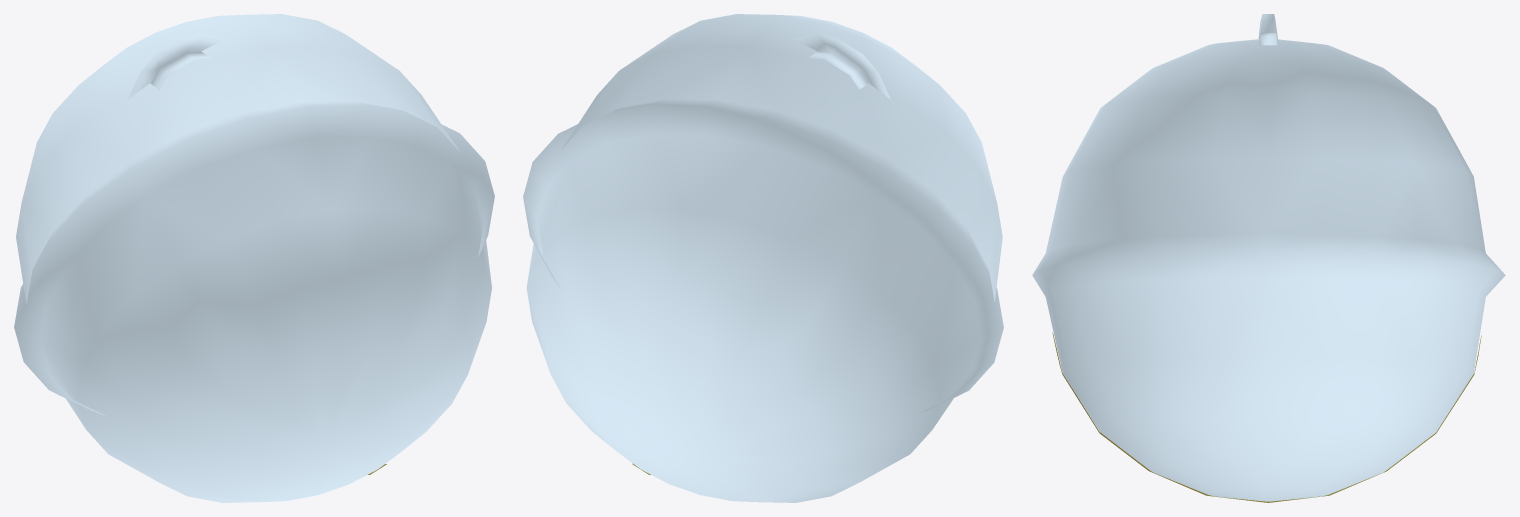
File: ps2_save-icons_bloodlastvampiregekan.glb
The picture shows the model from 3 angles, left to right: view 1: azimuth 30°, elevation 25°; view 2: azimuth 150°, elevation 25°; view 3: azimuth 270°, elevation 25°; orthographic projection. The views are drawn at different scales.
Parts seen in each view (by area): view 1: suzu.ico; view 2: suzu.ico; view 3: suzu.ico.
Part boxes in pixels (<box>): suzu.ico: <box>14,14,494,502</box>; suzu.ico: <box>523,14,1003,502</box>; suzu.ico: <box>1032,14,1505,502</box>.
Size of the model in its own units: 3.82 by 4.01 by 3.98.
Materials: 1 (1 with a texture image).
